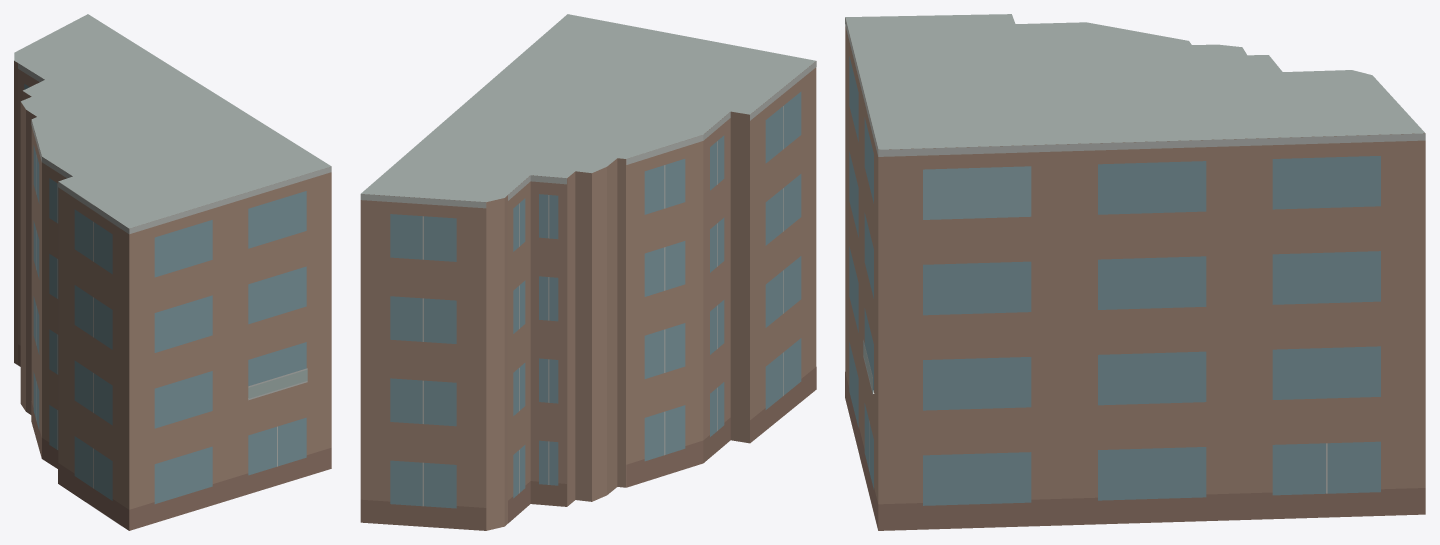
The model's file is survey-upis-32641016.glb.
3 views of the same model, side by side, from view 1: azimuth 30°, elevation 25°; view 2: azimuth 150°, elevation 25°; view 3: azimuth 270°, elevation 25° (orthographic). The views are drawn at different scales.
Parts seen in each view (by area): view 1: survey-upis-32641016.tmp; view 2: survey-upis-32641016.tmp; view 3: survey-upis-32641016.tmp.
Boxes of the visible parts, x1,y1,x2,y2 form: survey-upis-32641016.tmp: (14,14,331,530); survey-upis-32641016.tmp: (360,14,816,530); survey-upis-32641016.tmp: (845,14,1425,530).
Size of the model in its own units: 9.86 by 12.9 by 17.82.
